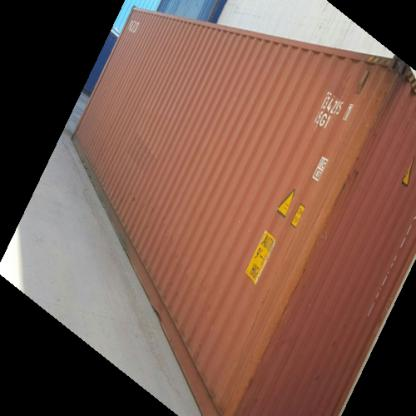Damage: (221, 263, 296, 396), (290, 150, 363, 273), (359, 59, 407, 163)
